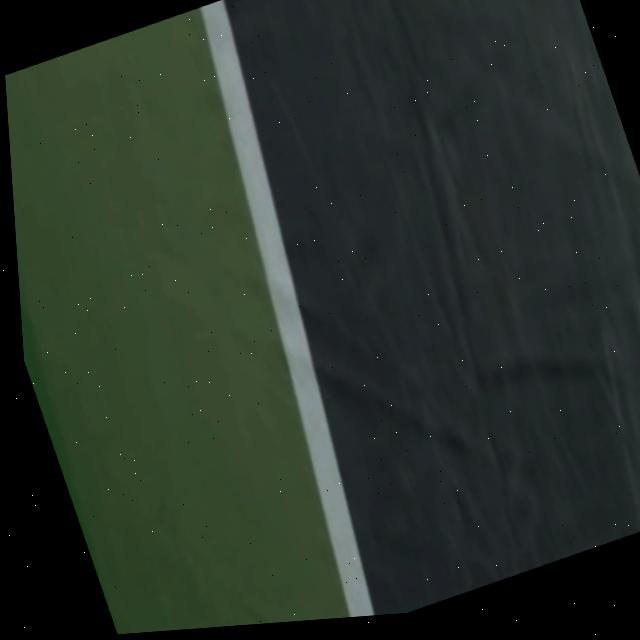right: (201, 0, 376, 617)
